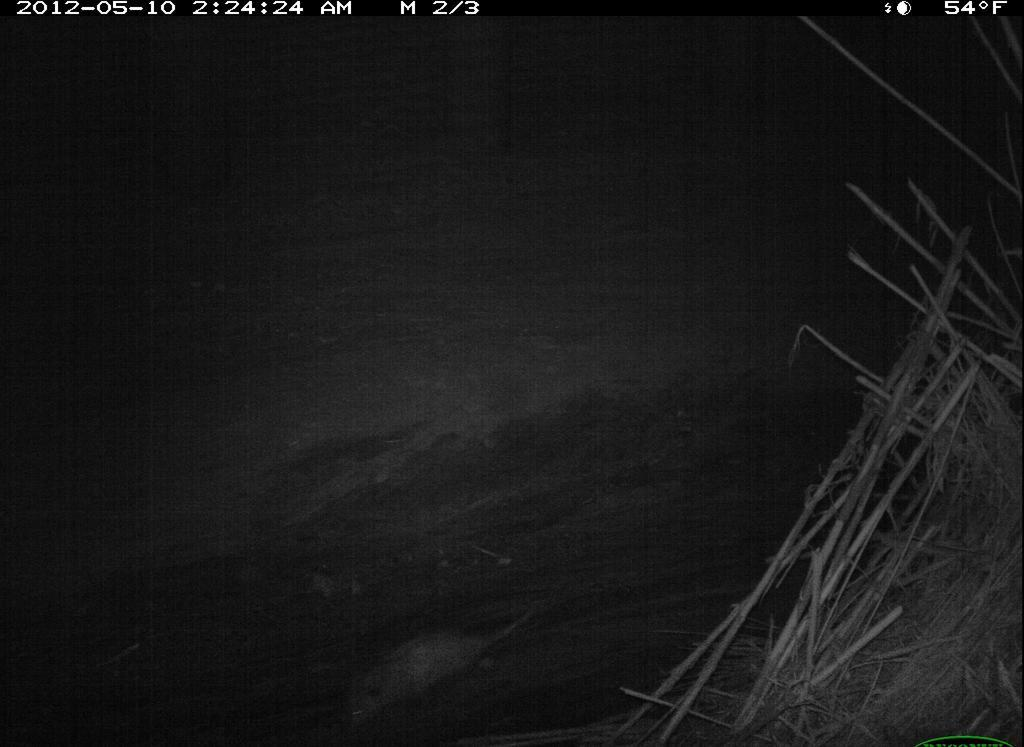opossum: (332, 575, 565, 740)
